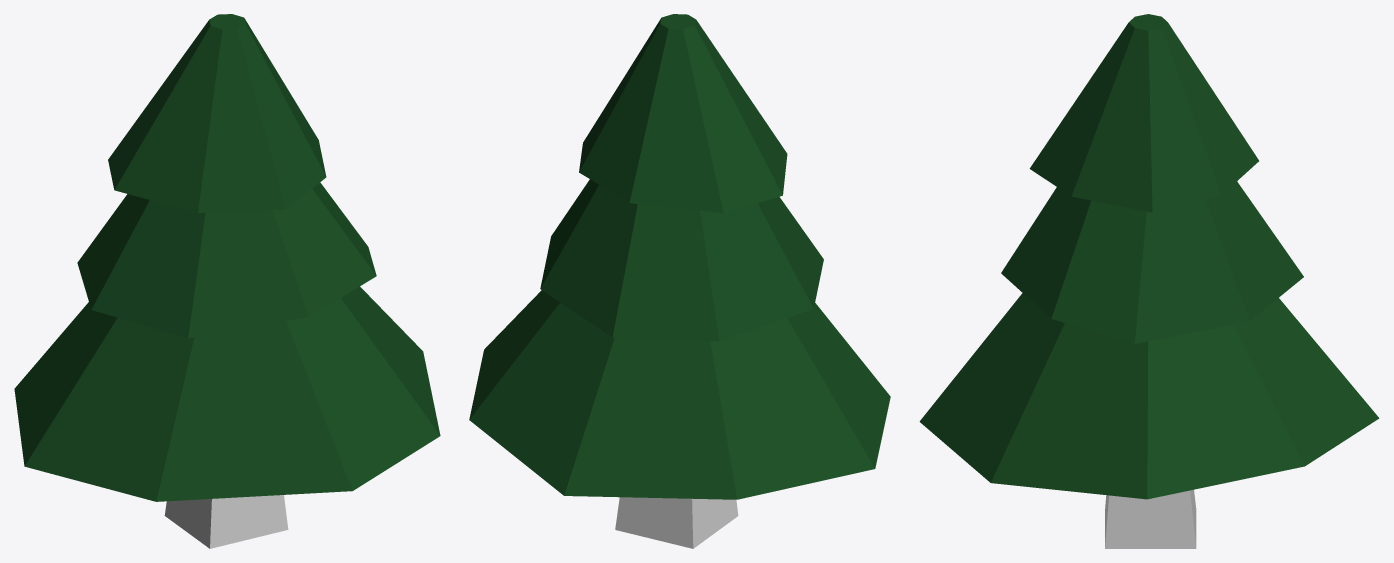
File: tree_spruce0.fbx
The picture shows the model from 3 angles, left to right: view 1: azimuth 30°, elevation 25°; view 2: azimuth 150°, elevation 25°; view 3: azimuth 270°, elevation 25°; orthographic projection.
Parts seen in each view (by area): view 1: Cube; view 2: Cube; view 3: Cube.
Boxes of the visible parts, x1,y1,x2,y2 form: Cube: [14, 14, 440, 548]; Cube: [469, 14, 890, 548]; Cube: [919, 14, 1379, 548].
Size of the model in its own units: 3449 by 4183 by 3440.
